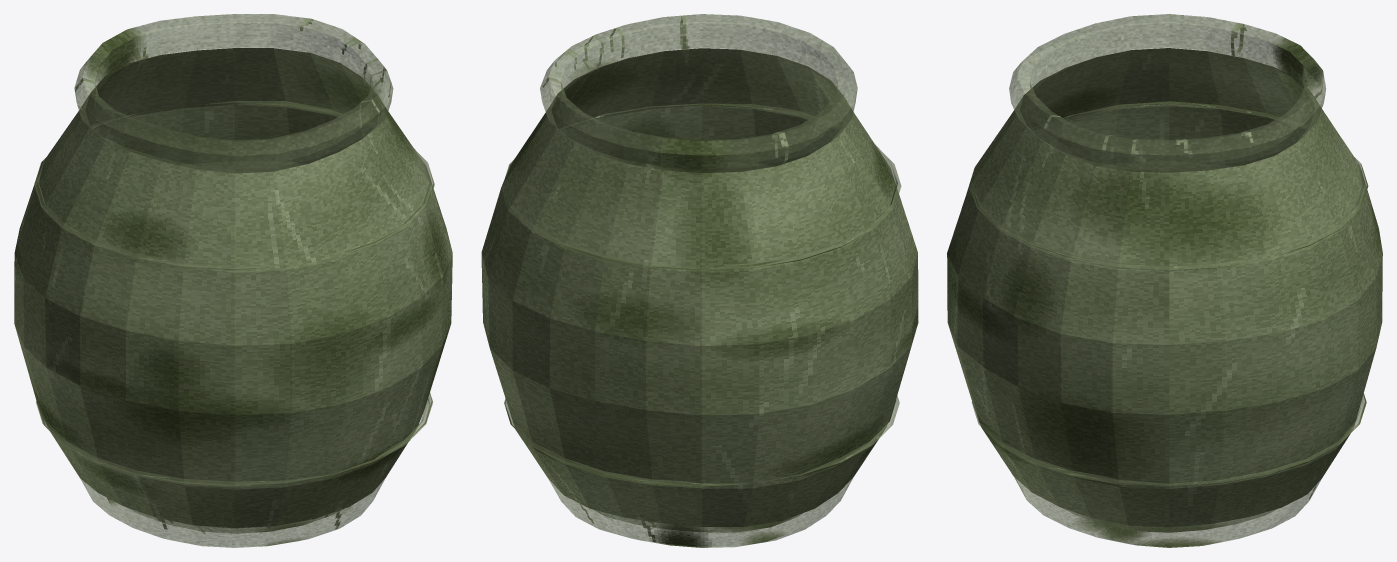
Rendered from SkillJar.glb.
3 renders of one model, left to right at view 1: azimuth 30°, elevation 25°; view 2: azimuth 150°, elevation 25°; view 3: azimuth 270°, elevation 25°, orthographic.
Visible parts, largest first — view 1: SkillJar; view 2: SkillJar; view 3: SkillJar.
Boxes of the visible parts, box(x1,y1,x2,y2) form: SkillJar: box(14, 14, 452, 547); SkillJar: box(481, 14, 918, 547); SkillJar: box(947, 14, 1382, 547).
Bounding box in the file's own units: 0.795 × 0.8387 × 0.794.
Materials: 4 (4 with a texture image).
